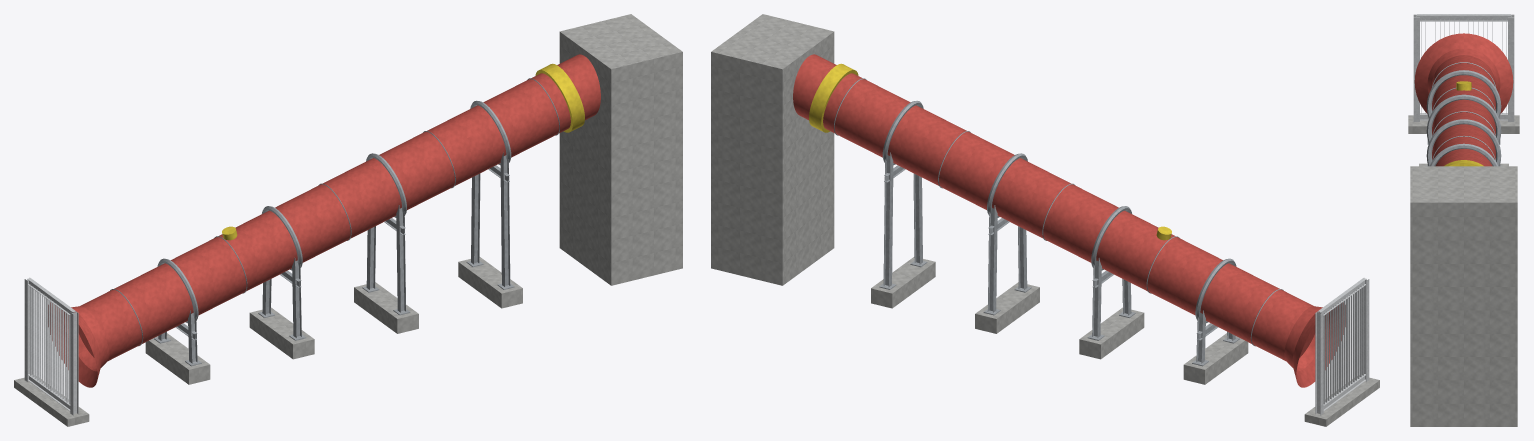
File: penstock-and-intake-support-structures.glb
The picture shows the model from 3 angles, left to right: view 1: azimuth 30°, elevation 25°; view 2: azimuth 150°, elevation 25°; view 3: azimuth 270°, elevation 25°; orthographic projection. The views are drawn at different scales.
Parts seen in each view (by area): view 1: PenstockShell(context), AnchorBlock(context), Piers(context), SupportFrames&SolePlates, IntakeTrashRack, RingGirders, ExpansionJoint; view 2: PenstockShell(context), AnchorBlock(context), Piers(context), SupportFrames&SolePlates, IntakeTrashRack, RingGirders, ExpansionJoint; view 3: AnchorBlock(context), PenstockShell(context), RingGirders, IntakeTrashRack, Piers(context), ExpansionJoint, Manhole.
Part boxes in pixels (x1,y1,x2,y2): PenstockShell(context): [48, 54, 600, 387]; AnchorBlock(context): [559, 14, 682, 285]; Piers(context): [14, 257, 522, 426]; SupportFrames&SolePlates: [154, 152, 514, 366]; IntakeTrashRack: [24, 278, 78, 415]; RingGirders: [110, 78, 559, 346]; ExpansionJoint: [535, 63, 584, 132]; PenstockShell(context): [793, 54, 1345, 387]; AnchorBlock(context): [711, 14, 834, 285]; Piers(context): [871, 257, 1379, 426]; SupportFrames&SolePlates: [879, 152, 1239, 366]; IntakeTrashRack: [1315, 278, 1369, 415]; RingGirders: [834, 78, 1283, 346]; ExpansionJoint: [809, 63, 858, 132]; AnchorBlock(context): [1410, 166, 1517, 426]; PenstockShell(context): [1414, 33, 1513, 166]; RingGirders: [1426, 62, 1501, 166]; IntakeTrashRack: [1413, 14, 1514, 121]; Piers(context): [1408, 115, 1519, 166]; ExpansionJoint: [1444, 160, 1483, 166]; Manhole: [1456, 81, 1471, 90].
Size of the model in its own units: 34.41 by 11.96 by 5.2.
Materials: 5 (5 with a texture image).
